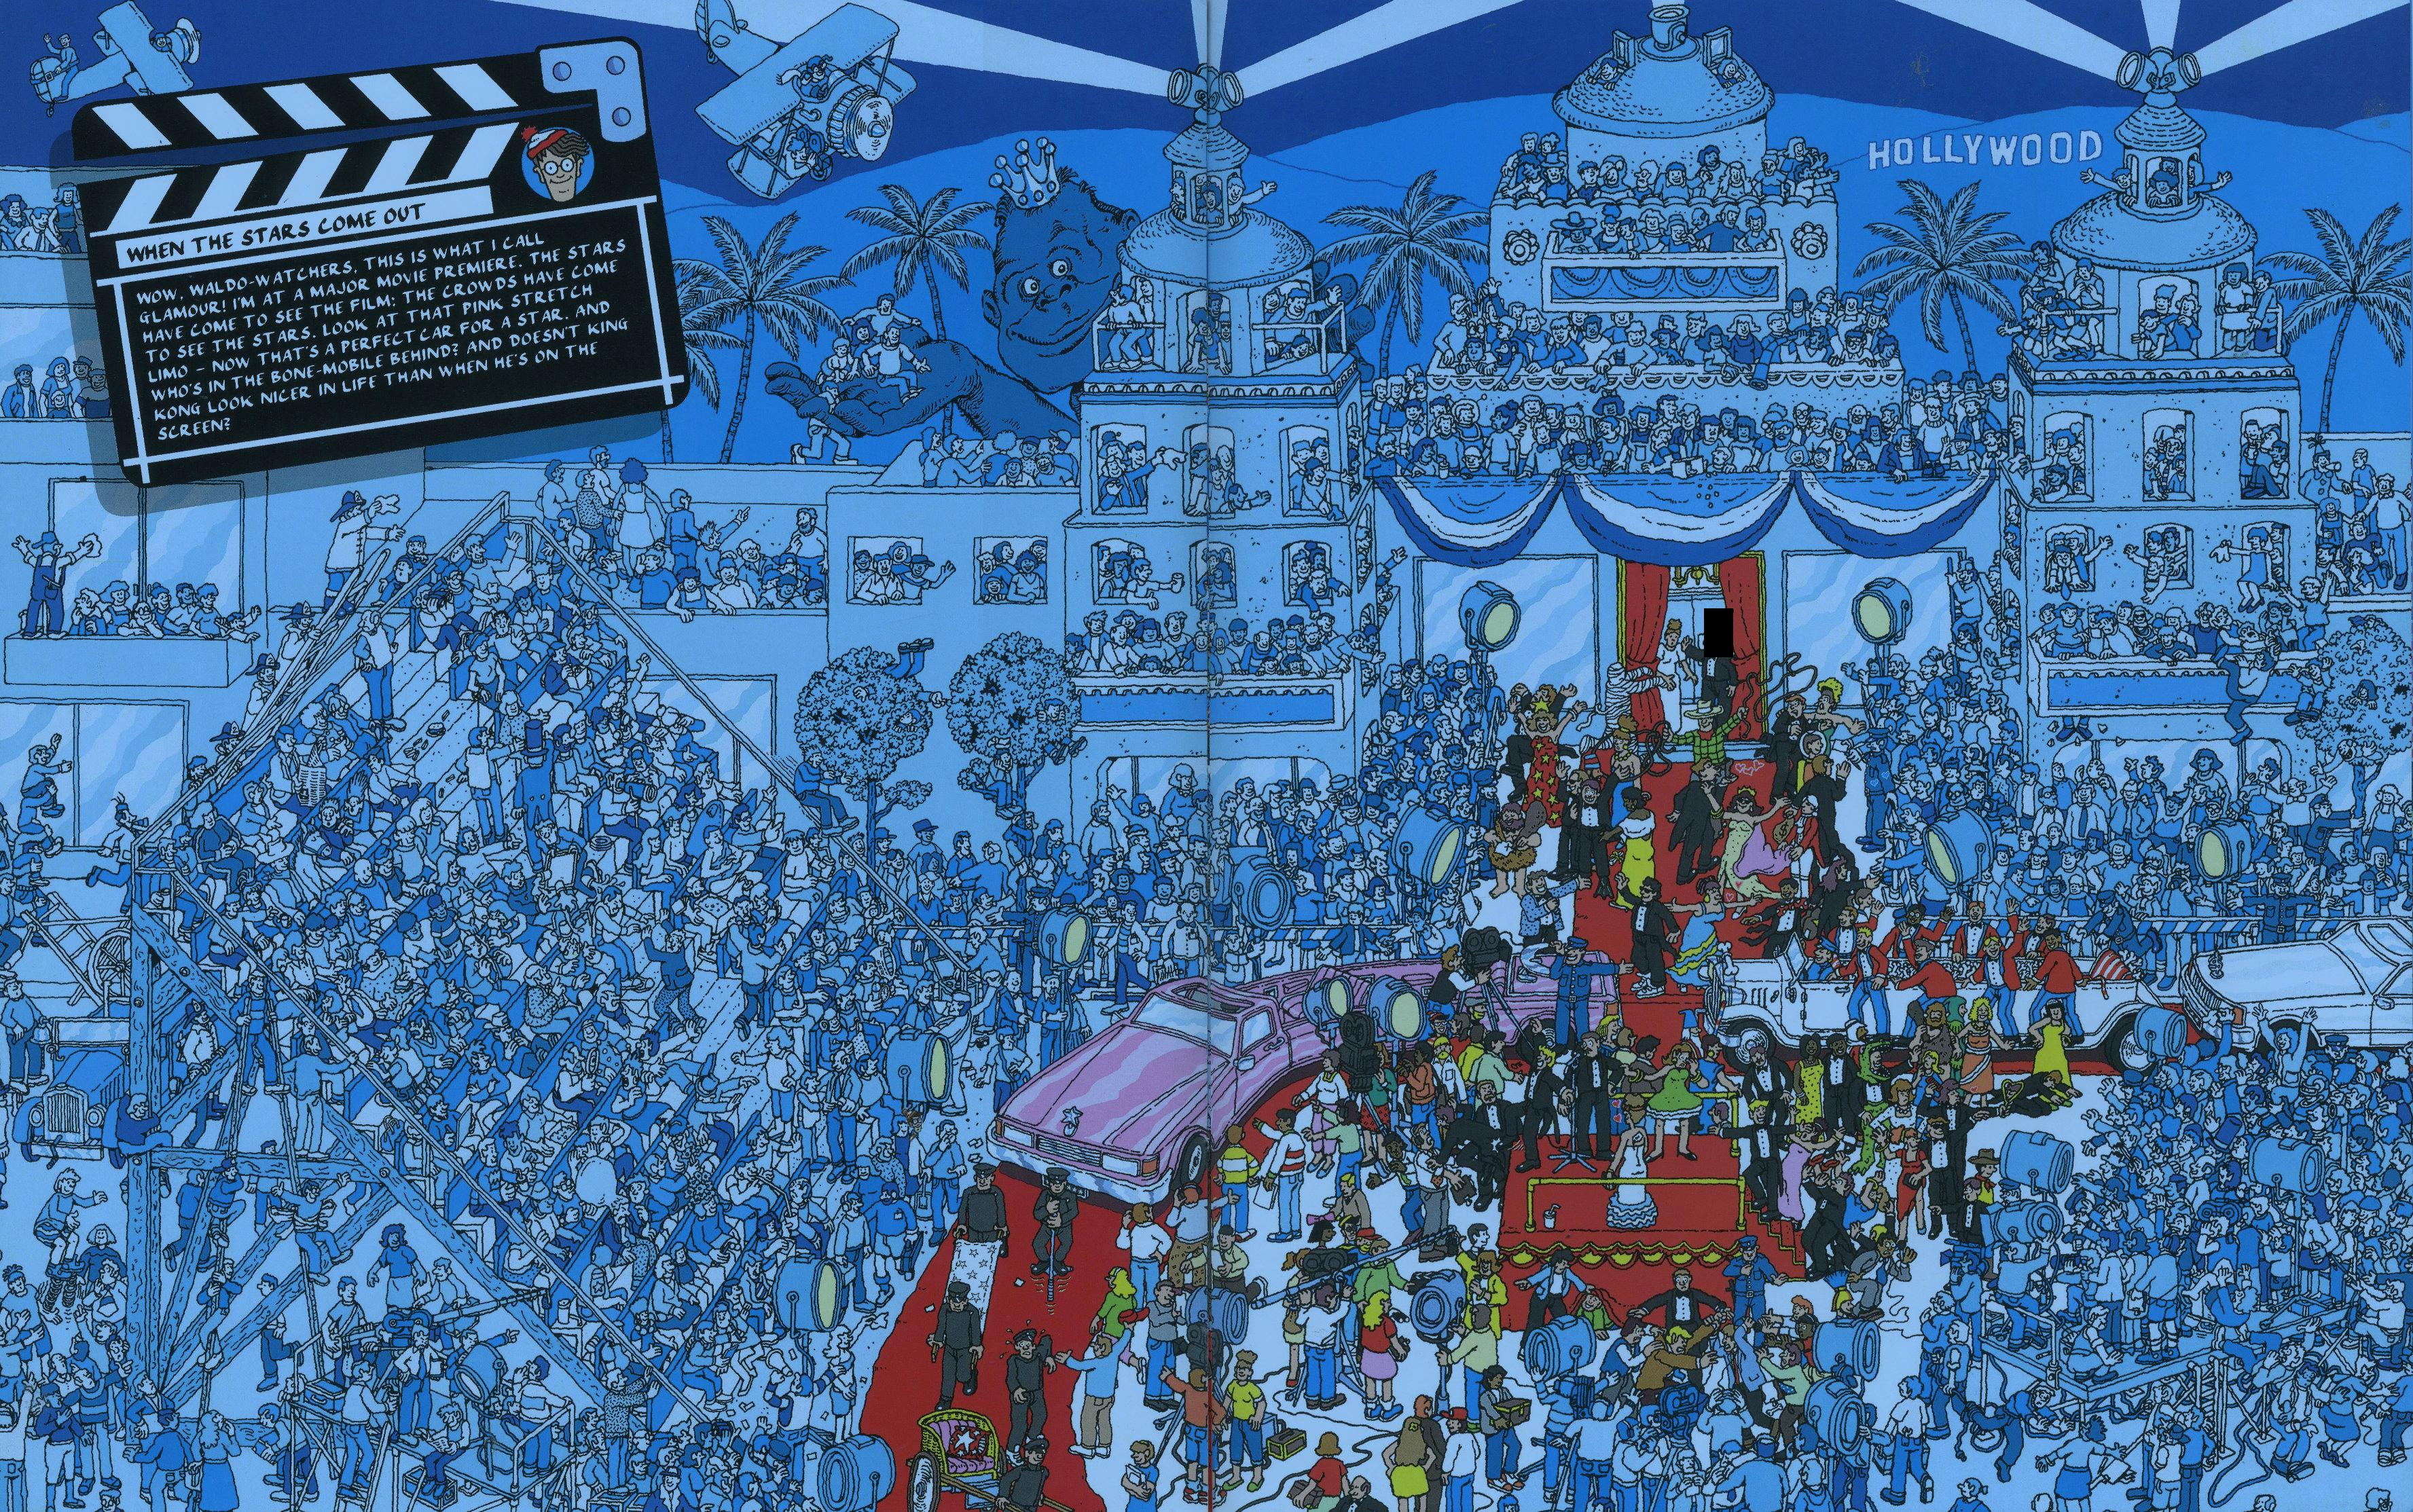waldos: (899, 1104, 927, 1153)
